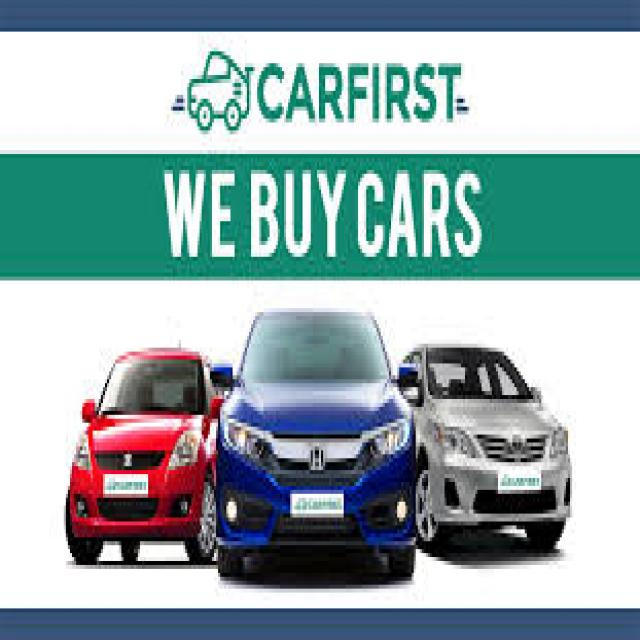Car: (214, 298, 418, 588), (398, 347, 574, 547), (62, 338, 218, 560)
